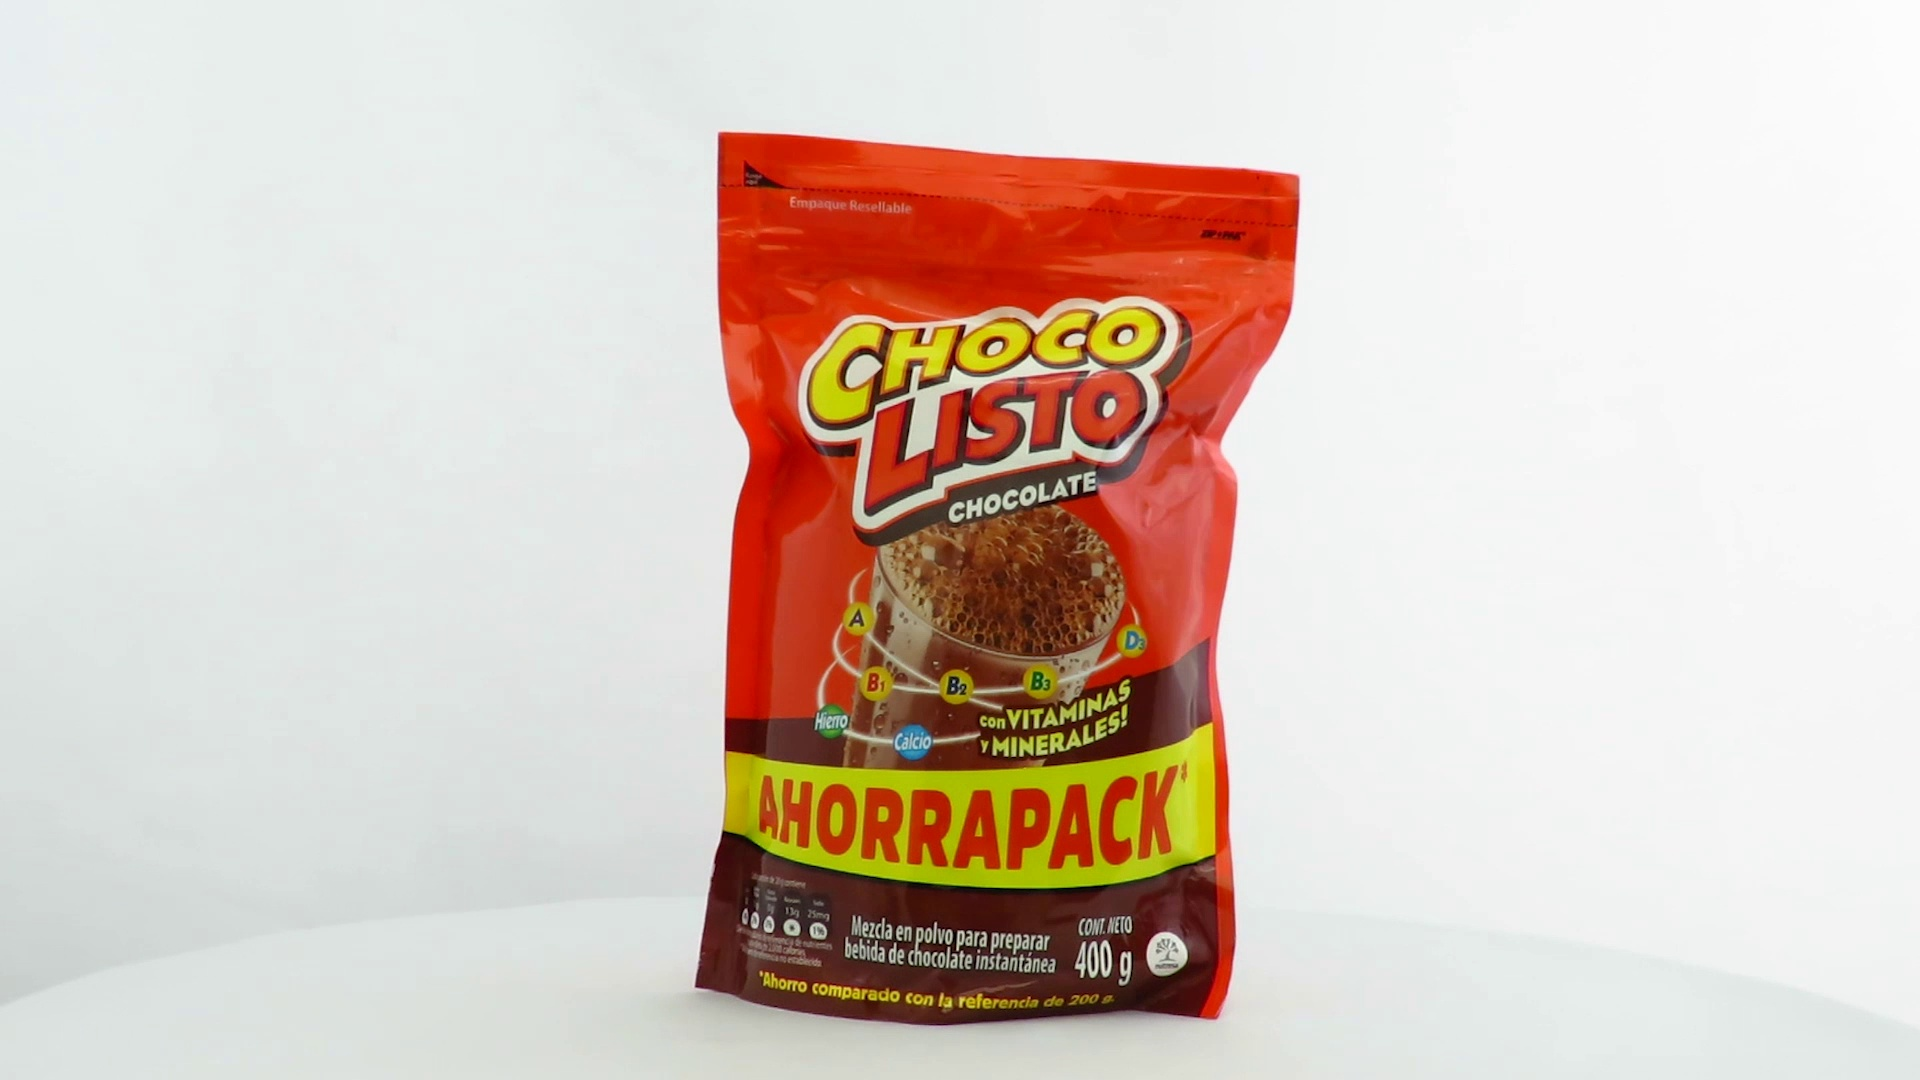COL0170103DYP40000: (690, 127, 1305, 1033)
